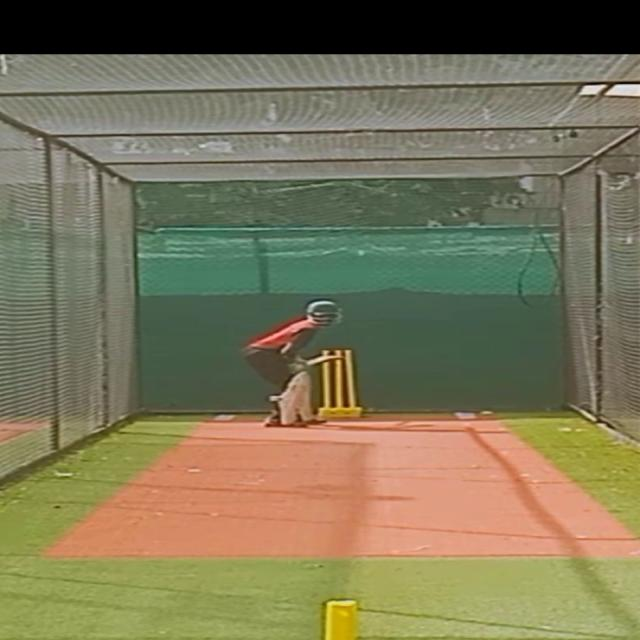stump: (316, 348, 362, 417)
